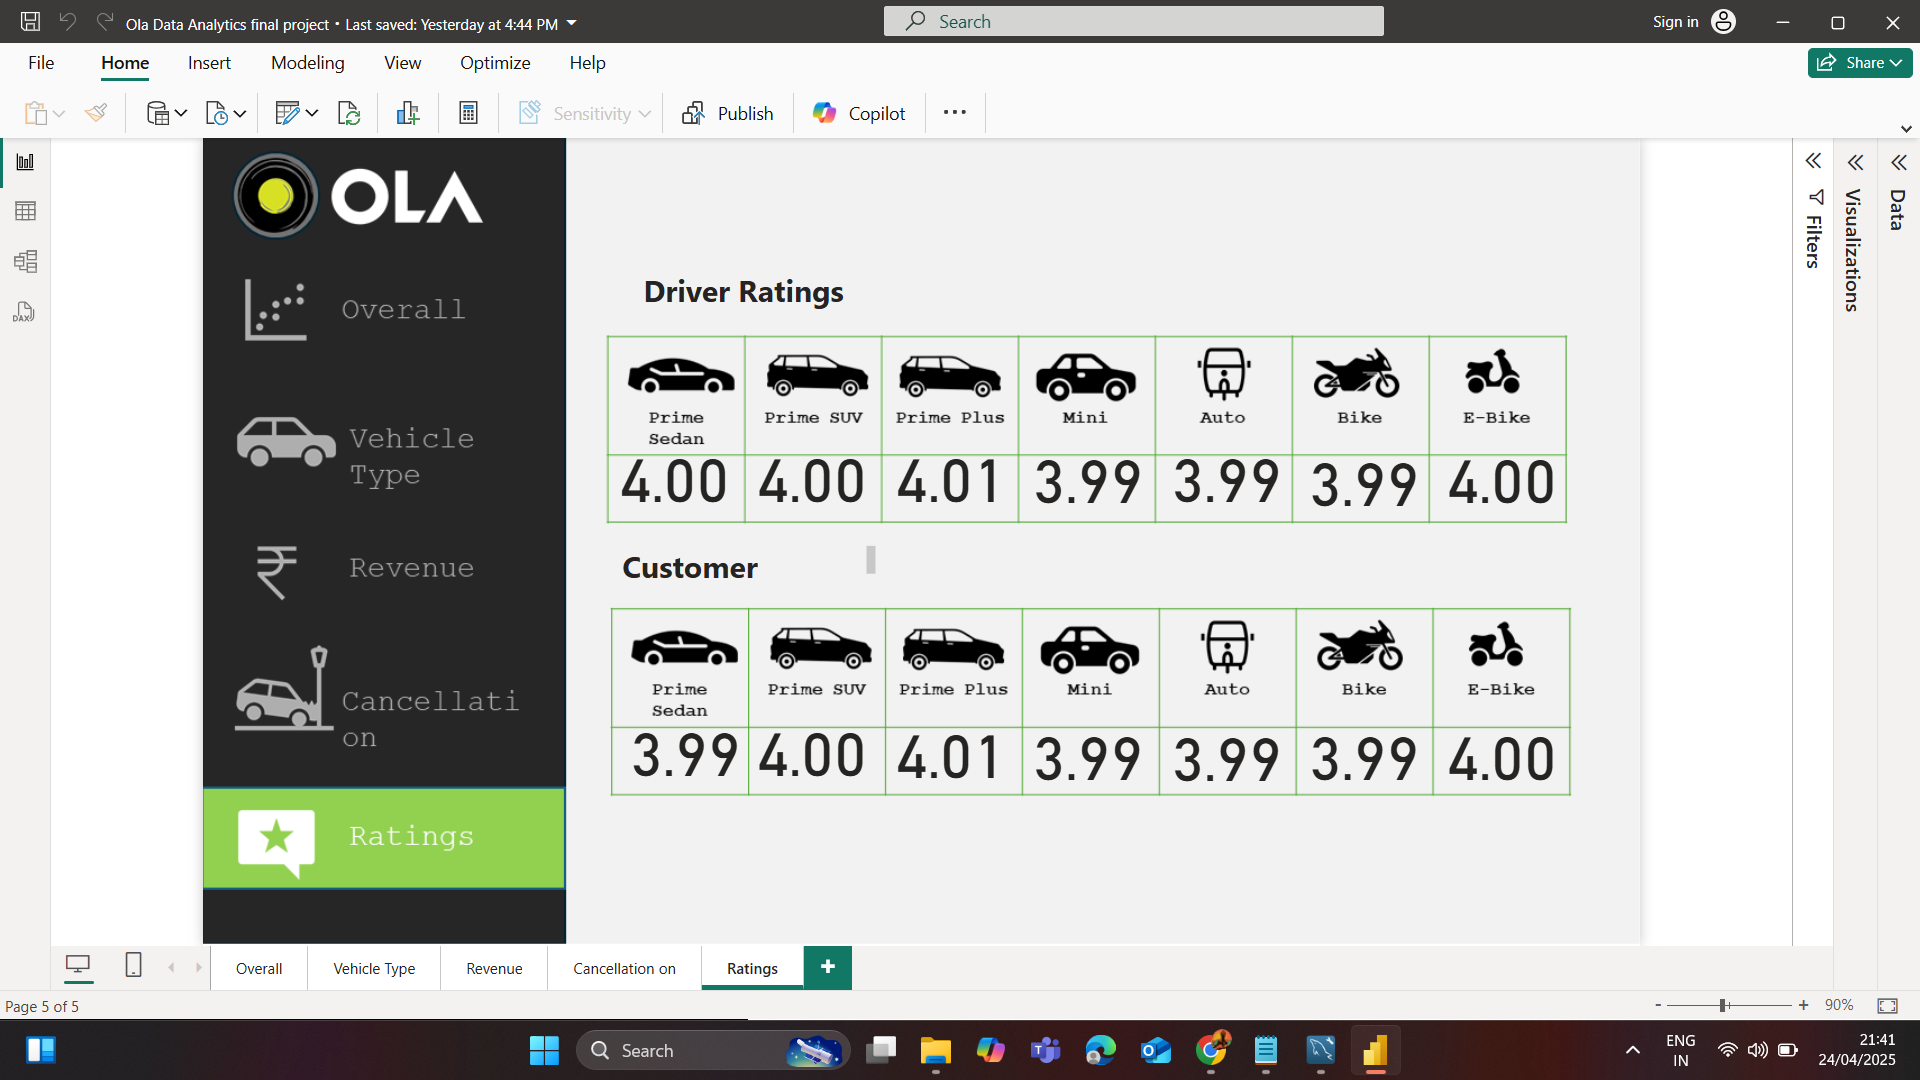

The page's visual inventory and layout, read from the dashboard file:
{"tool":"powerbi","page":{"name":"Ratings","canvas":[1280,720],"ordinal":4},"visuals":[{"type":"actionButton","box":[1.2,113.4,324.5,89.3],"z":0},{"type":"actionButton","box":[0,232.8,324.5,89.3],"z":1000},{"type":"actionButton","box":[0,340.2,324.5,89.3],"z":2000},{"type":"actionButton","box":[0,451.2,324.5,89.3],"z":3000},{"type":"card","fields":{"Values":["ola1.Driver_Ratings"]},"box":[358.6,277.1,122.9,64.3],"z":4000},{"type":"card","fields":{"Values":["ola1.Driver_Ratings"]},"box":[481.4,277.1,122.9,64.3],"z":5000},{"type":"card","fields":{"Values":["ola1.Driver_Ratings"]},"box":[604.3,277.1,122.9,64.3],"z":6000},{"type":"card","fields":{"Values":["ola1.Driver_Ratings"]},"box":[727.1,278.6,122.9,64.3],"z":7000},{"type":"card","fields":{"Values":["ola1.Driver_Ratings"]},"box":[850,277.1,122.9,64.3],"z":8000},{"type":"card","fields":{"Values":["ola1.Driver_Ratings"]},"box":[972.9,280,122.9,64.3],"z":9000},{"type":"card","fields":{"Values":["ola1.Driver_Ratings"]},"box":[1095.7,278.6,122.9,64.3],"z":10000},{"type":"card","fields":{"Values":["ola1.Customer_Rating"]},"box":[368.6,521.4,122.9,64.3],"z":11000},{"type":"card","fields":{"Values":["ola1.Driver_Ratings"]},"box":[481.4,521.4,122.9,64.3],"z":12000},{"type":"card","fields":{"Values":["ola1.Driver_Ratings"]},"box":[604.3,522.9,122.9,64.3],"z":13000},{"type":"card","fields":{"Values":["ola1.Driver_Ratings"]},"box":[727.1,524.3,122.9,64.3],"z":14000},{"type":"card","fields":{"Values":["ola1.Driver_Ratings"]},"box":[850,525.7,122.9,64.3],"z":15000},{"type":"card","fields":{"Values":["ola1.Driver_Ratings"]},"box":[972.9,524.3,122.9,64.3],"z":16000},{"type":"card","fields":{"Values":["ola1.Driver_Ratings"]},"box":[1095.7,524.3,122.9,64.3],"z":17000},{"type":"textbox","box":[358.6,112.9,245.7,48.6],"z":18000},{"type":"textbox","box":[368.6,358.6,235.7,51.4],"z":19000}]}

Visuals, with their boxes on the page's 1280x720 design canvas (x1, y1, x2, y2). These are canvas units, not pixel positions in the 1920x1080 screenshot, which may show the page scaled, cropped or inside an application window:
actionButton: [1, 113, 326, 203]
actionButton: [0, 233, 324, 322]
actionButton: [0, 340, 324, 430]
actionButton: [0, 451, 324, 540]
card - ola1.Driver_Ratings: [359, 277, 482, 341]
card - ola1.Driver_Ratings: [481, 277, 604, 341]
card - ola1.Driver_Ratings: [604, 277, 727, 341]
card - ola1.Driver_Ratings: [727, 279, 850, 343]
card - ola1.Driver_Ratings: [850, 277, 973, 341]
card - ola1.Driver_Ratings: [973, 280, 1096, 344]
card - ola1.Driver_Ratings: [1096, 279, 1219, 343]
card - ola1.Customer_Rating: [369, 521, 492, 586]
card - ola1.Driver_Ratings: [481, 521, 604, 586]
card - ola1.Driver_Ratings: [604, 523, 727, 587]
card - ola1.Driver_Ratings: [727, 524, 850, 589]
card - ola1.Driver_Ratings: [850, 526, 973, 590]
card - ola1.Driver_Ratings: [973, 524, 1096, 589]
card - ola1.Driver_Ratings: [1096, 524, 1219, 589]
textbox: [359, 113, 604, 162]
textbox: [369, 359, 604, 410]
